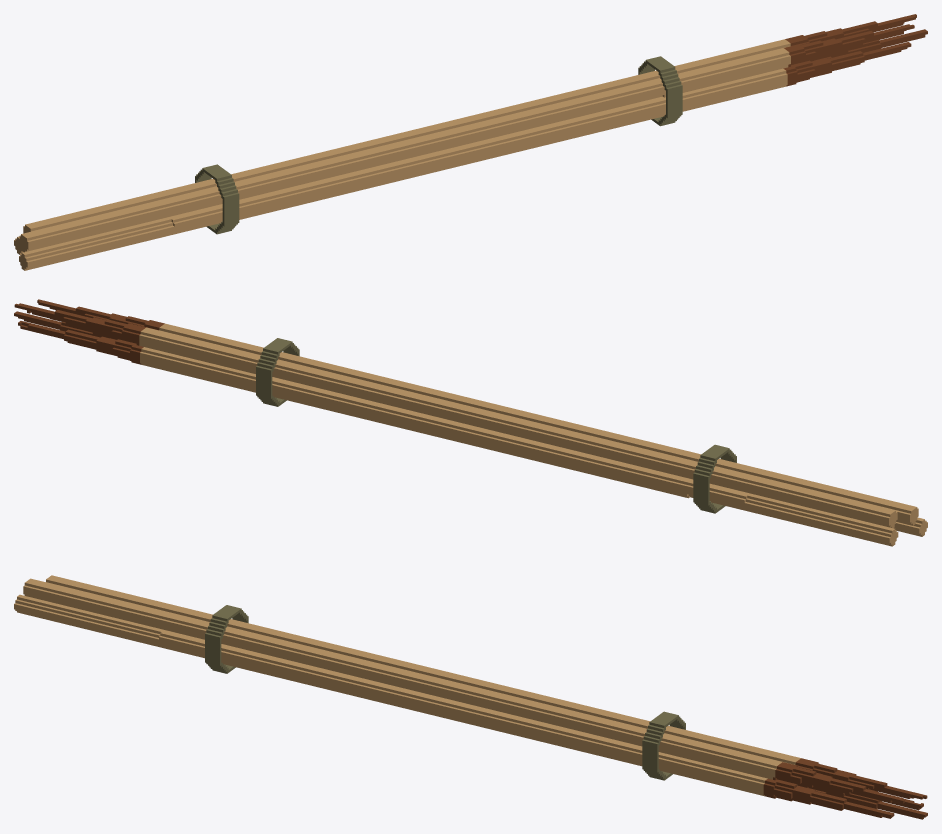
The model's file is bundle_javelin.glb.
3 renders of one model, top to bottom at view 1: azimuth 30°, elevation 25°; view 2: azimuth 150°, elevation 25°; view 3: azimuth 330°, elevation 25°, orthographic.
Parts seen in each view (by area): view 1: bundle_javelin:compound; view 2: bundle_javelin:compound; view 3: bundle_javelin:compound.
Boxes of the visible parts, left/top/right/bottom form: bundle_javelin:compound: left=14, top=14, right=927, bottom=270; bundle_javelin:compound: left=14, top=299, right=927, bottom=546; bundle_javelin:compound: left=14, top=575, right=927, bottom=819.
Size of the model in its own units: 1.44 by 0.084 by 0.08.
